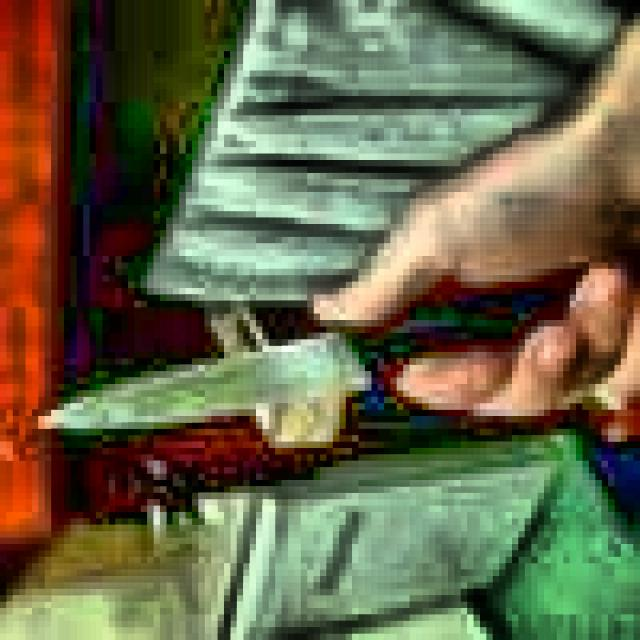knife: (37, 272, 580, 434)
